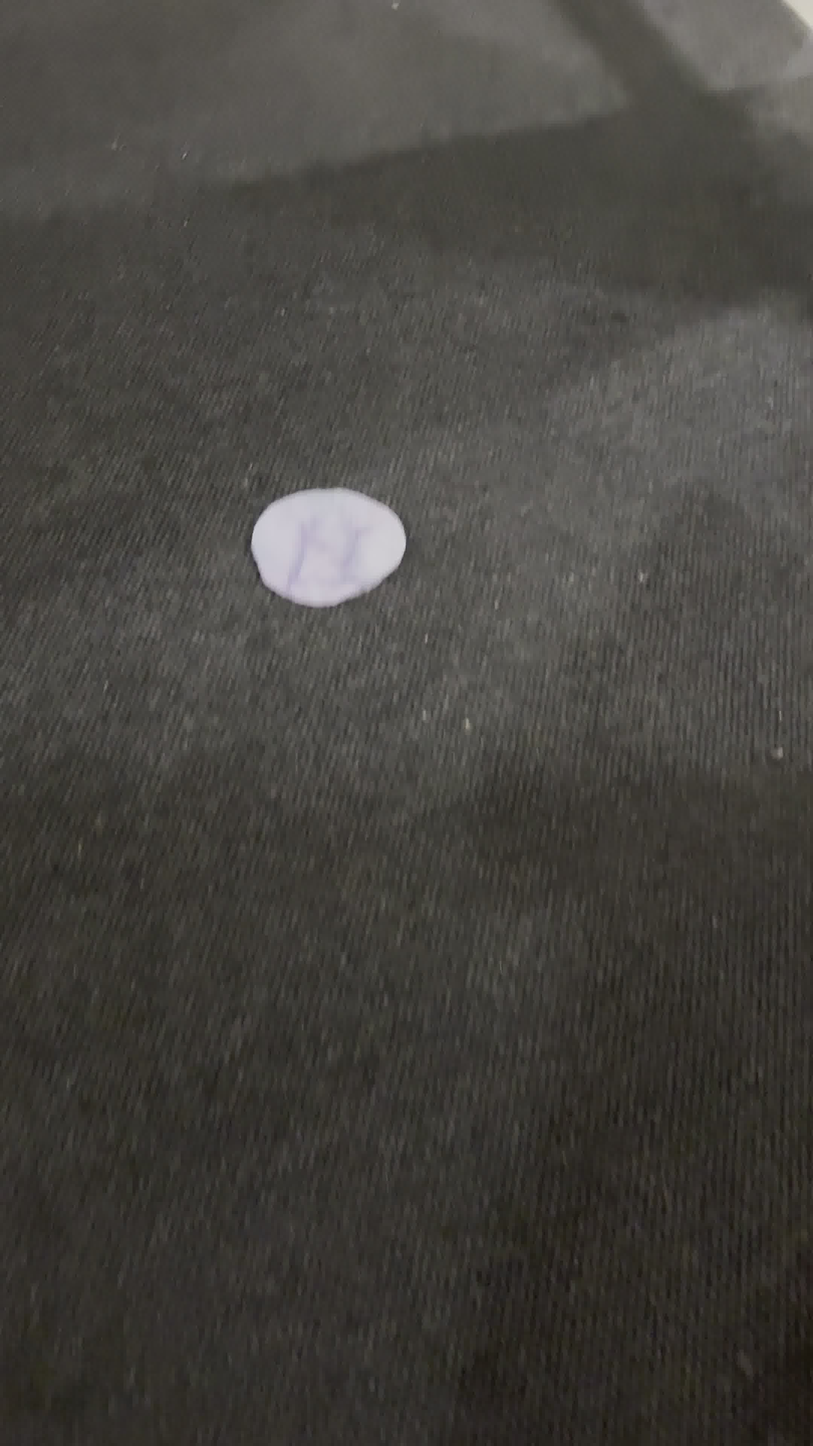Target: (251, 487, 406, 607)
